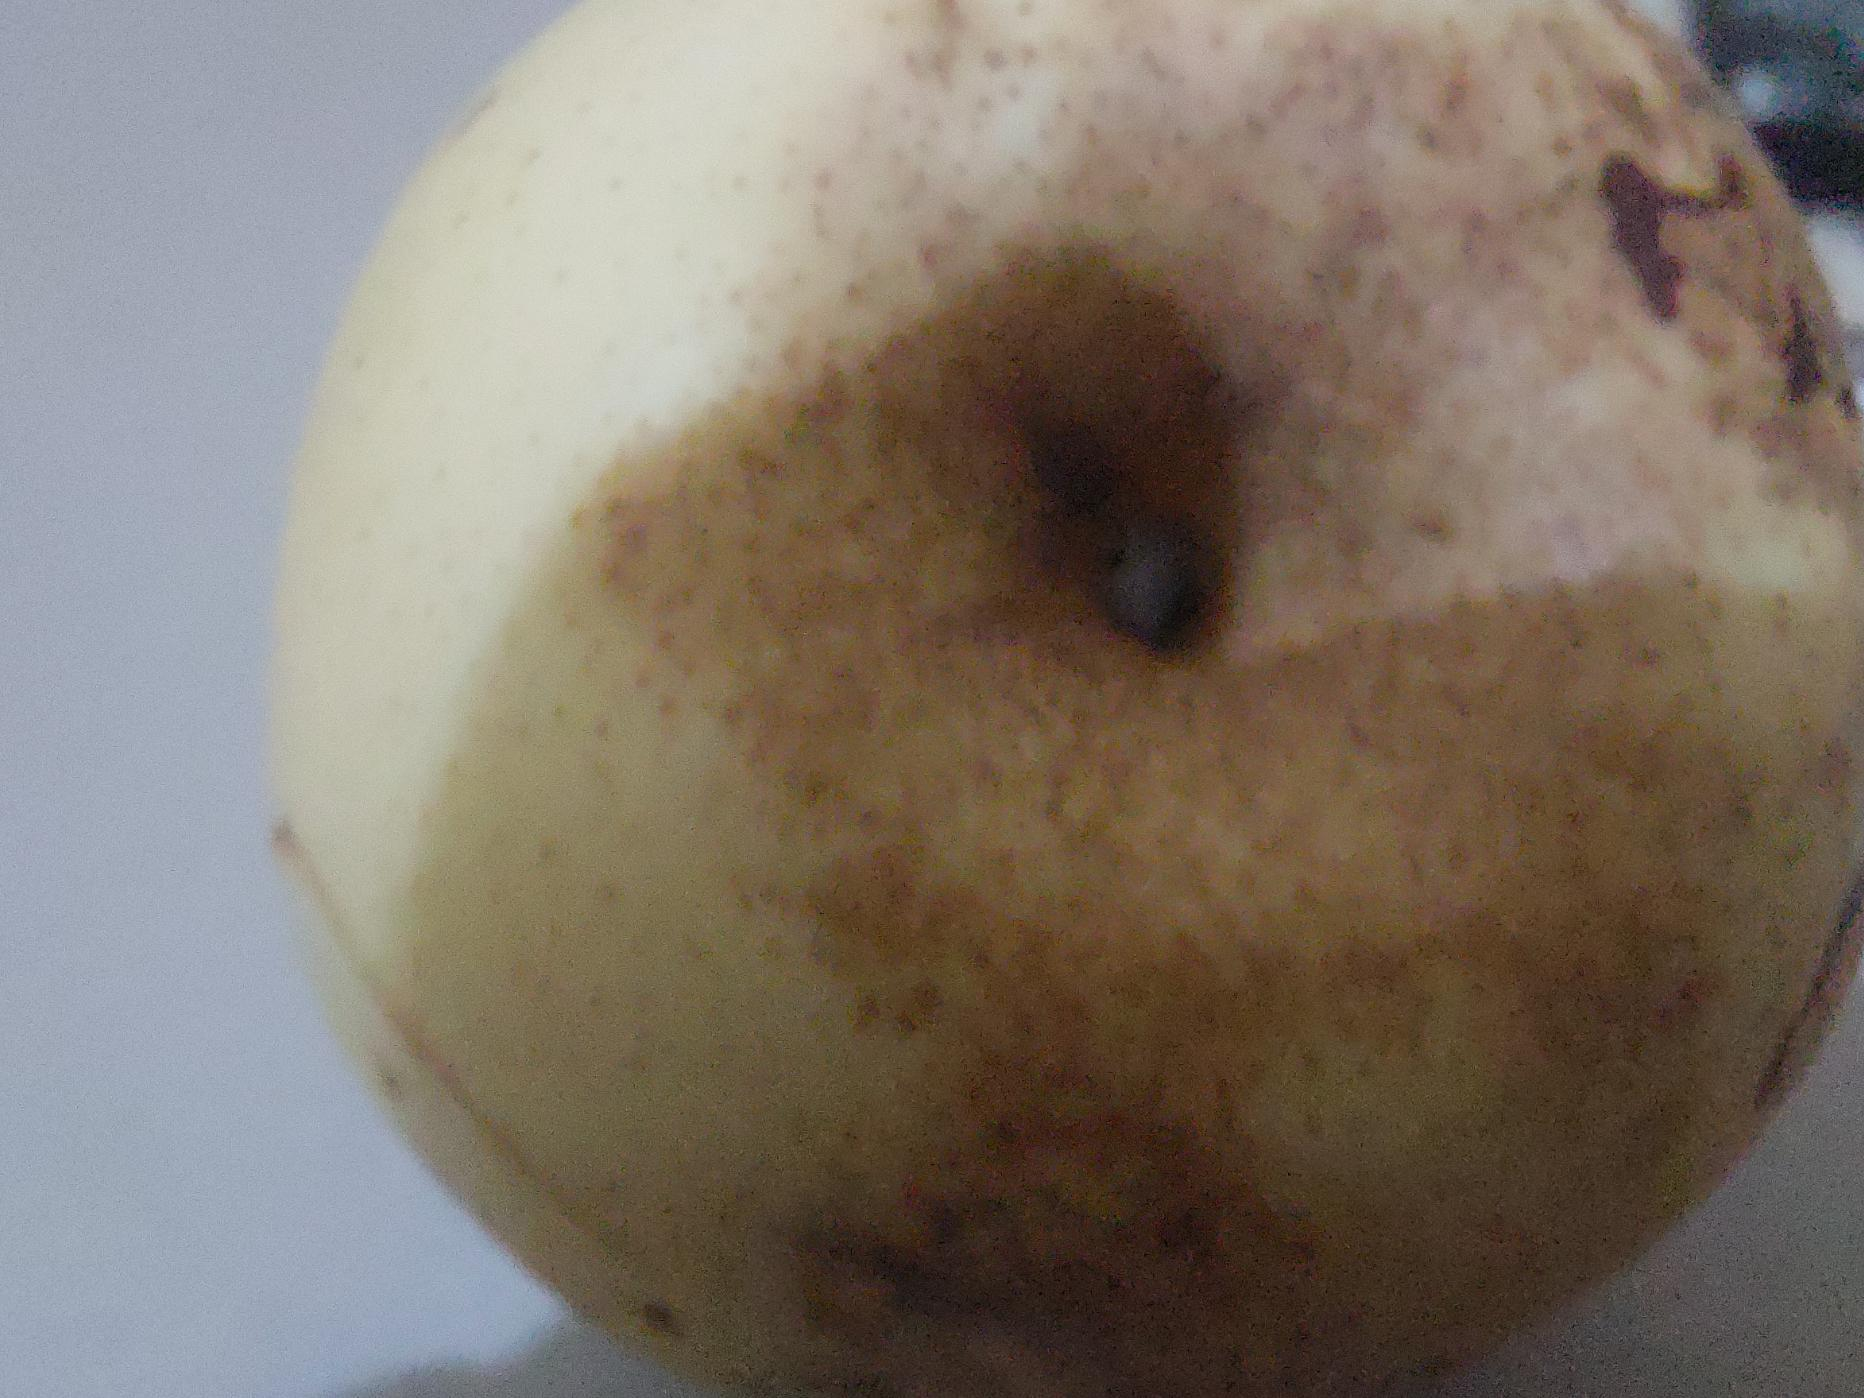Bad Pear: (222, 0, 1864, 1398)
